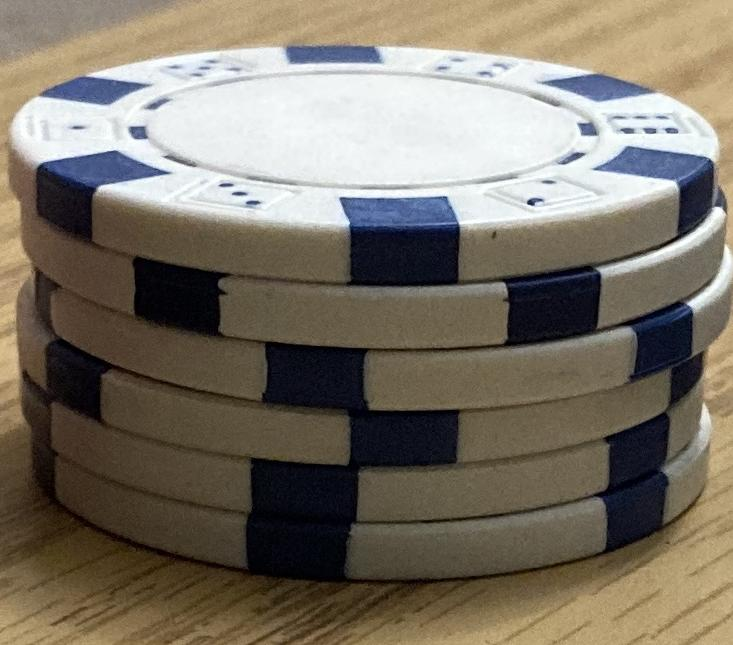Chip: (1, 1, 733, 645)
